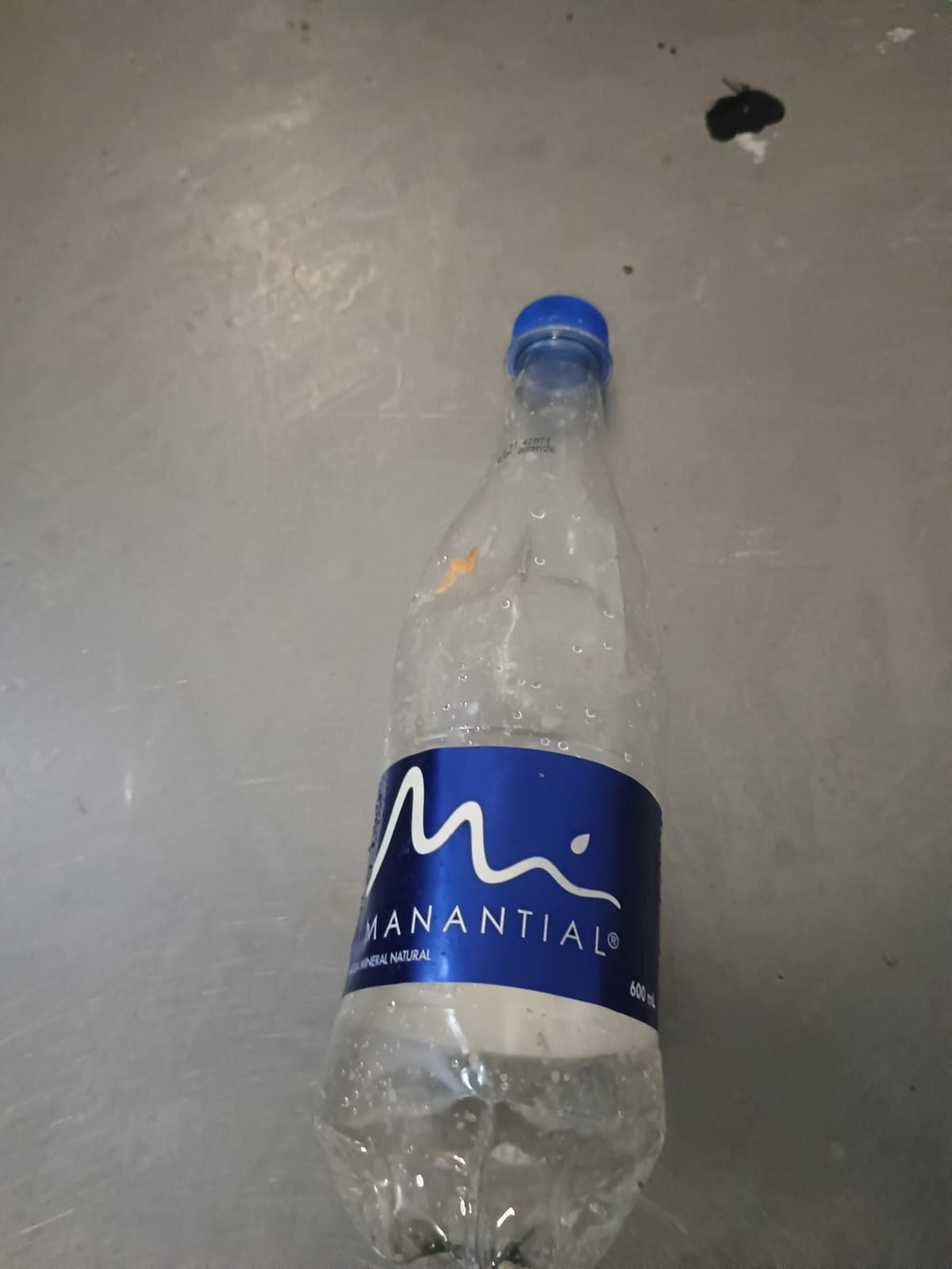Plastico: (317, 297, 667, 1267)
